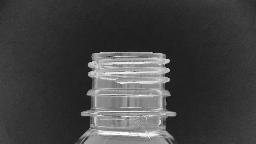No Cap: (76, 47, 180, 123)
